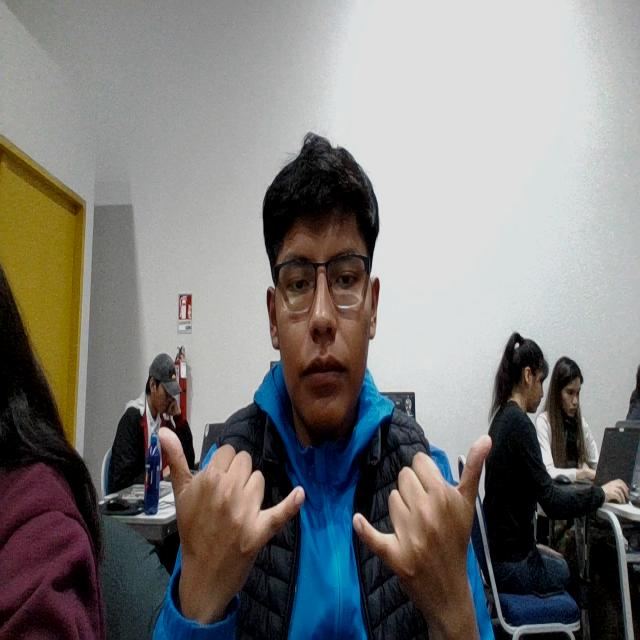now: (158, 403, 495, 619)
